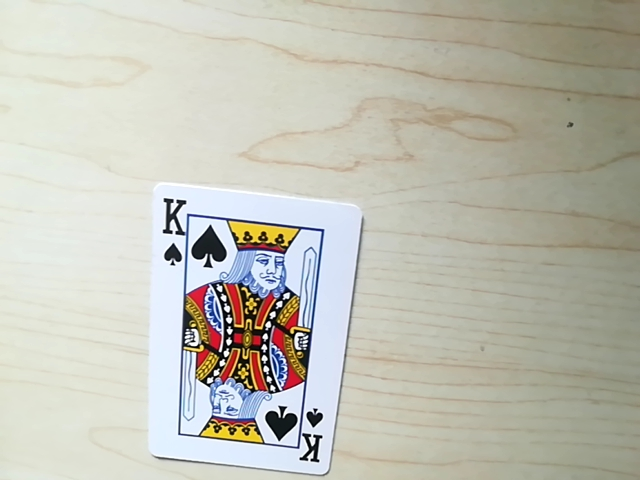ht k: (155, 194, 194, 261), (287, 406, 325, 466)
